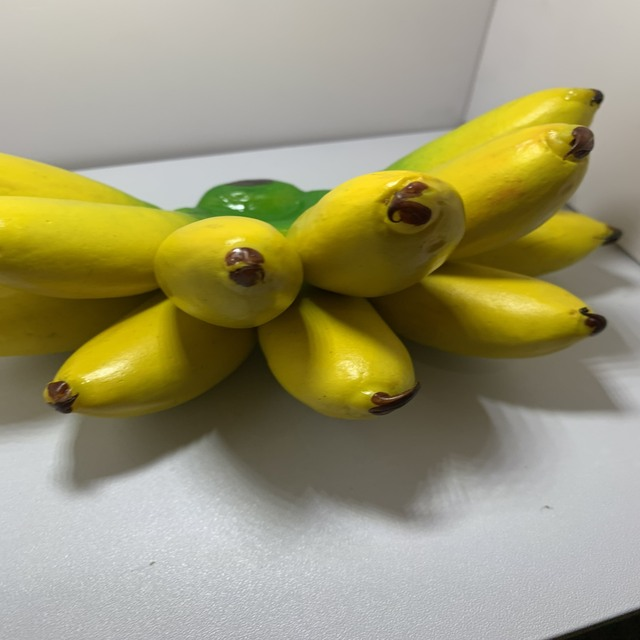Chuoi: (0, 76, 619, 426)
